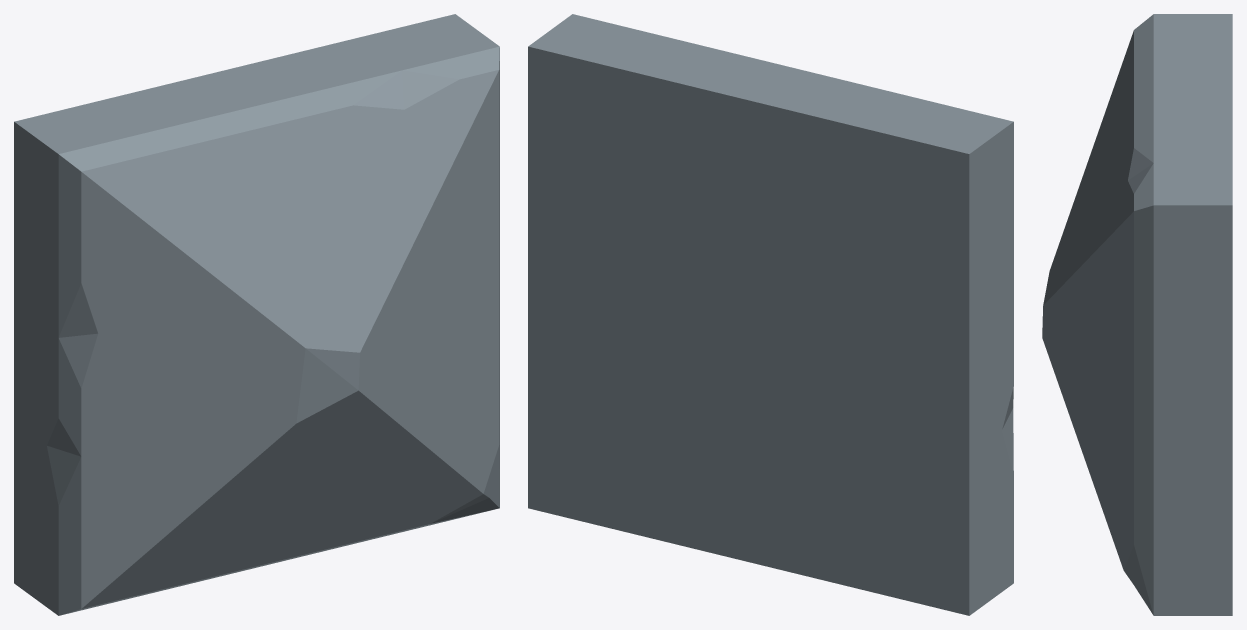
Rendered from SM_Prop_Wall_Panel_Small_03.fbx.
The picture shows the model from 3 angles, left to right: view 1: azimuth 30°, elevation 25°; view 2: azimuth 150°, elevation 25°; view 3: azimuth 270°, elevation 25°; orthographic projection. The views are drawn at different scales.
Visible parts, largest first — view 1: SM_Prop_Wall_Panel_Small_03; view 2: SM_Prop_Wall_Panel_Small_03; view 3: SM_Prop_Wall_Panel_Small_03.
Part boxes in pixels (x1=…): SM_Prop_Wall_Panel_Small_03: x1=14, y1=14, x2=499, y2=615; SM_Prop_Wall_Panel_Small_03: x1=528, y1=14, x2=1013, y2=615; SM_Prop_Wall_Panel_Small_03: x1=1042, y1=14, x2=1232, y2=615.
Size of the model in its own units: 50.07 by 50.07 by 21.07.
Materials: 1 (1 with a texture image).
